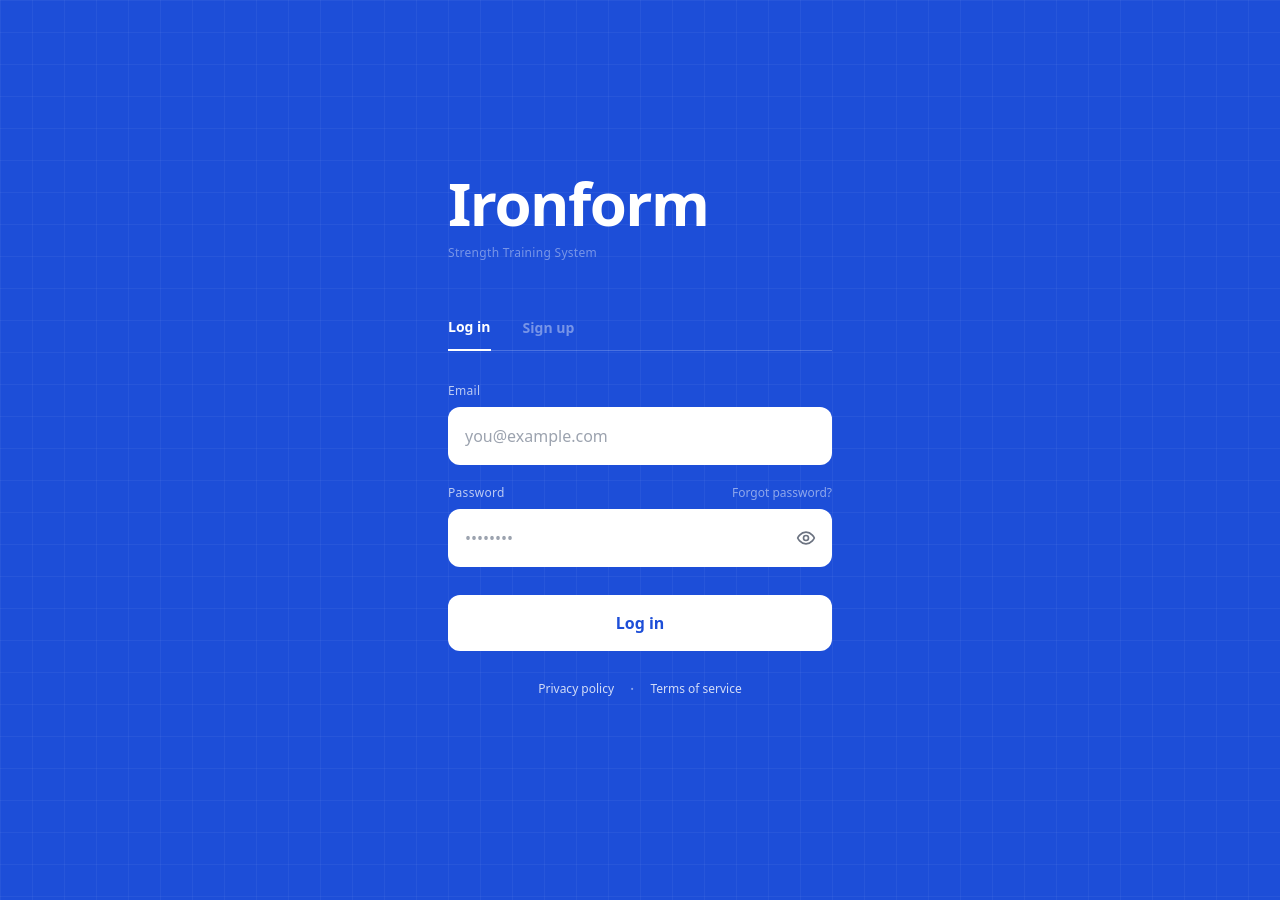
Test: AuthForm — forgot password › returns to the login form via "Back to log in"
Click the button "Forgot password?": click(782, 493) [732,485,832,501]
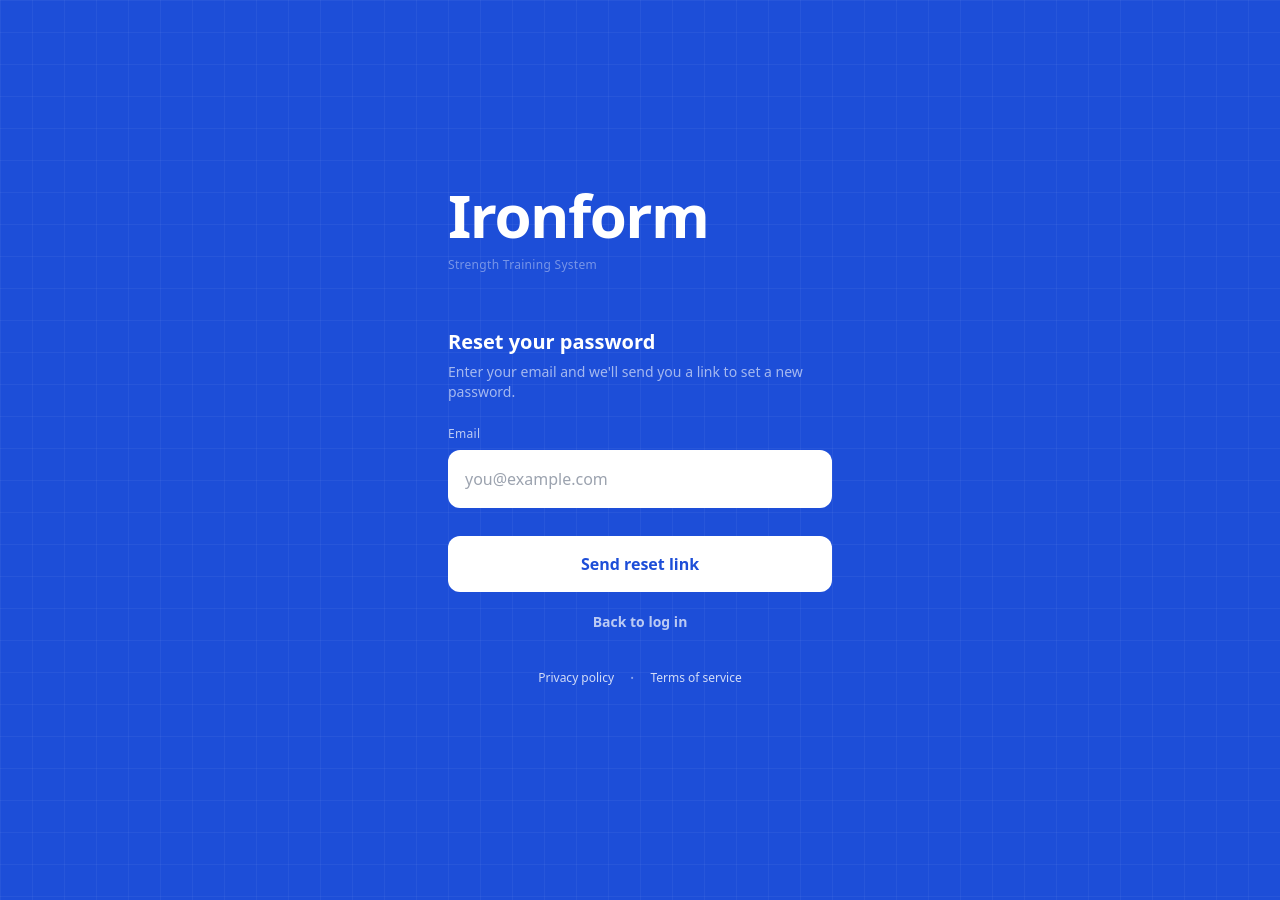
Click the button "Back to log in": click(640, 622) [448,604,832,640]
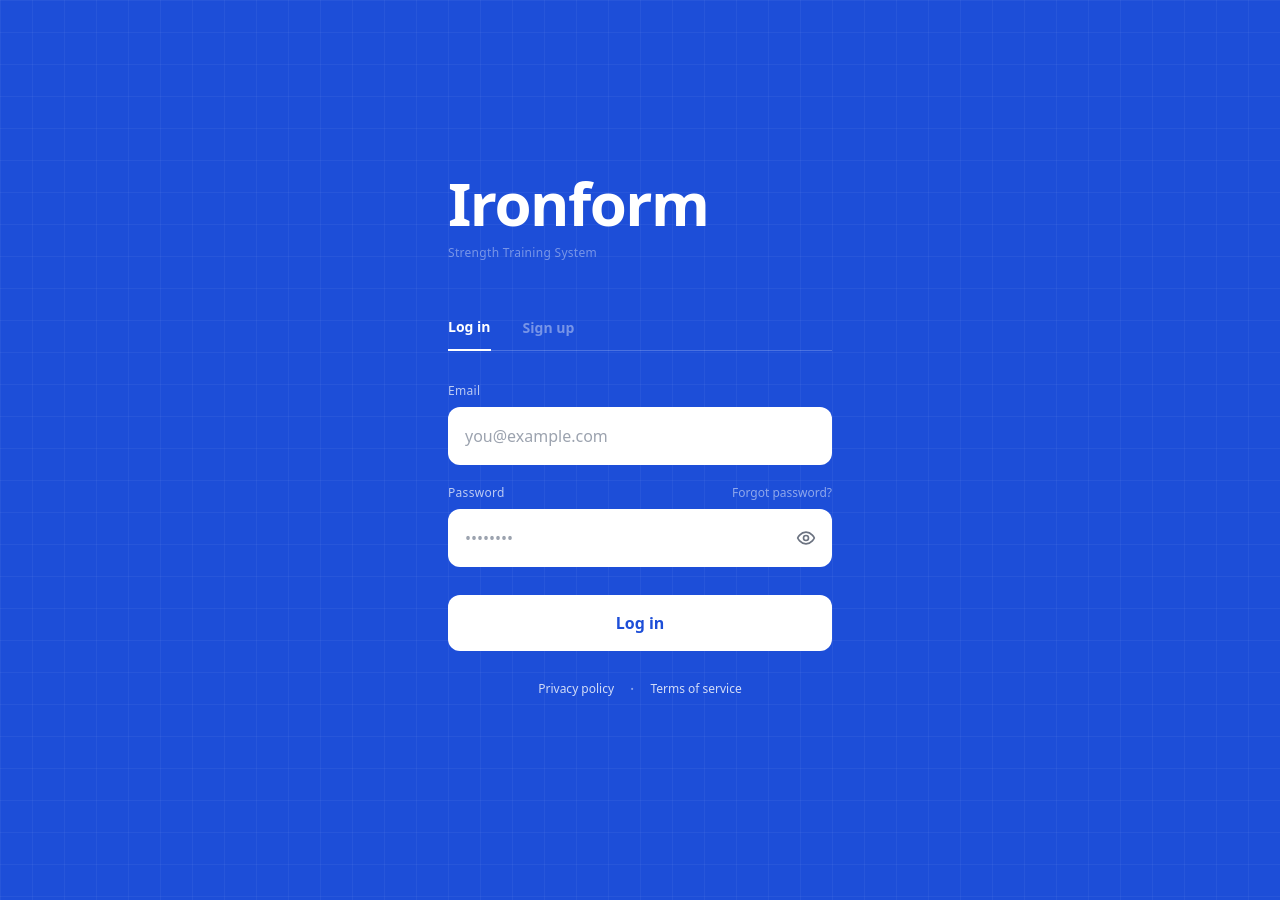
Expected: the button "Sign up" is shown, [522,317,574,350]
Expected: the button "Forgot password?" is shown, [732,485,832,501]
Expected: the heading "Reset your password" is gone
